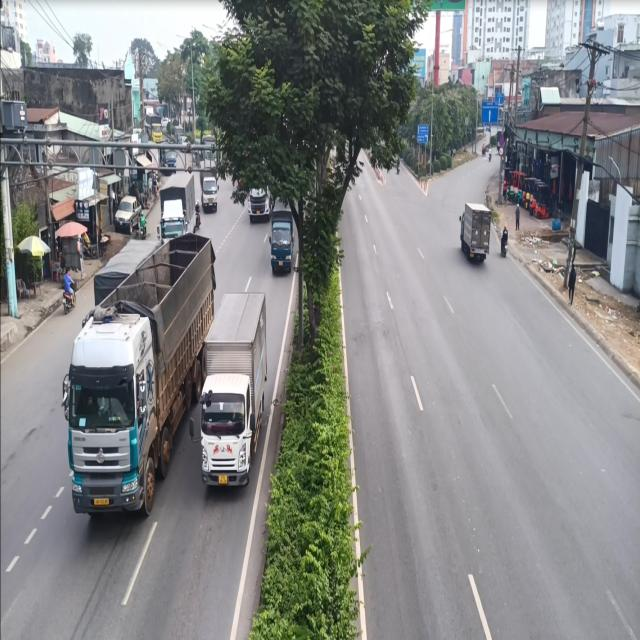truck: (71, 224, 215, 533), (196, 277, 276, 500), (454, 193, 492, 266), (266, 194, 296, 280), (483, 242, 484, 246)
